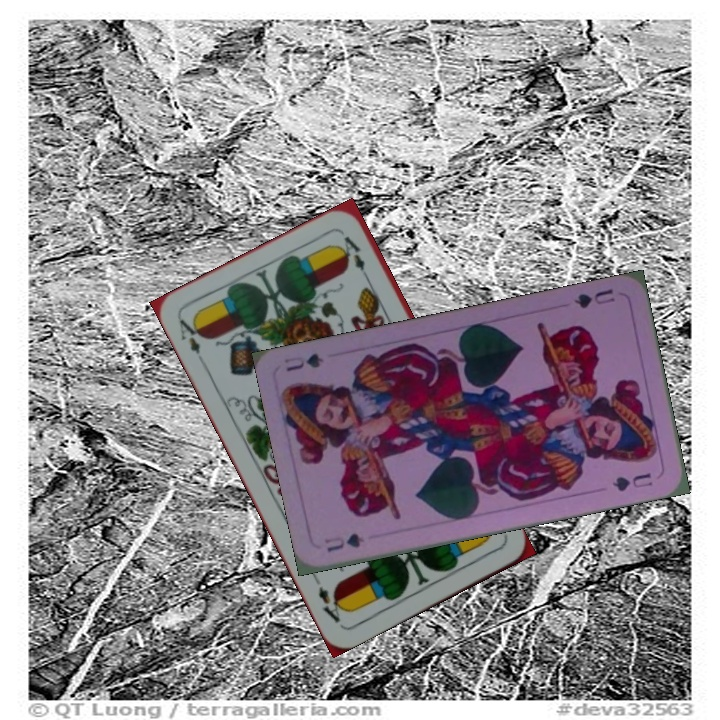EA: (175, 314, 207, 357)
GU: (570, 284, 617, 311), (320, 529, 367, 555)
